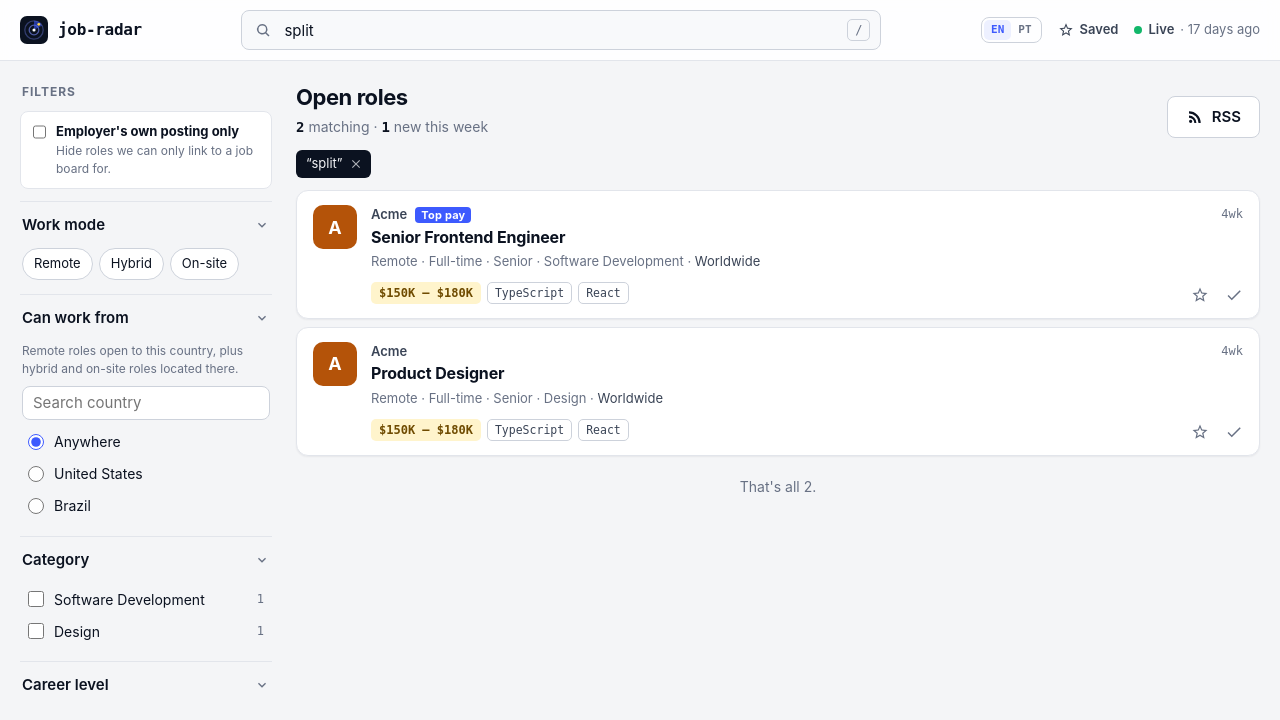
App › opens a preview beside the list on wide screens only once a role is picked
The image size is (1280, 720).
Click the link "Senior Frontend Engineer": (468, 236) [371,226,565,246]
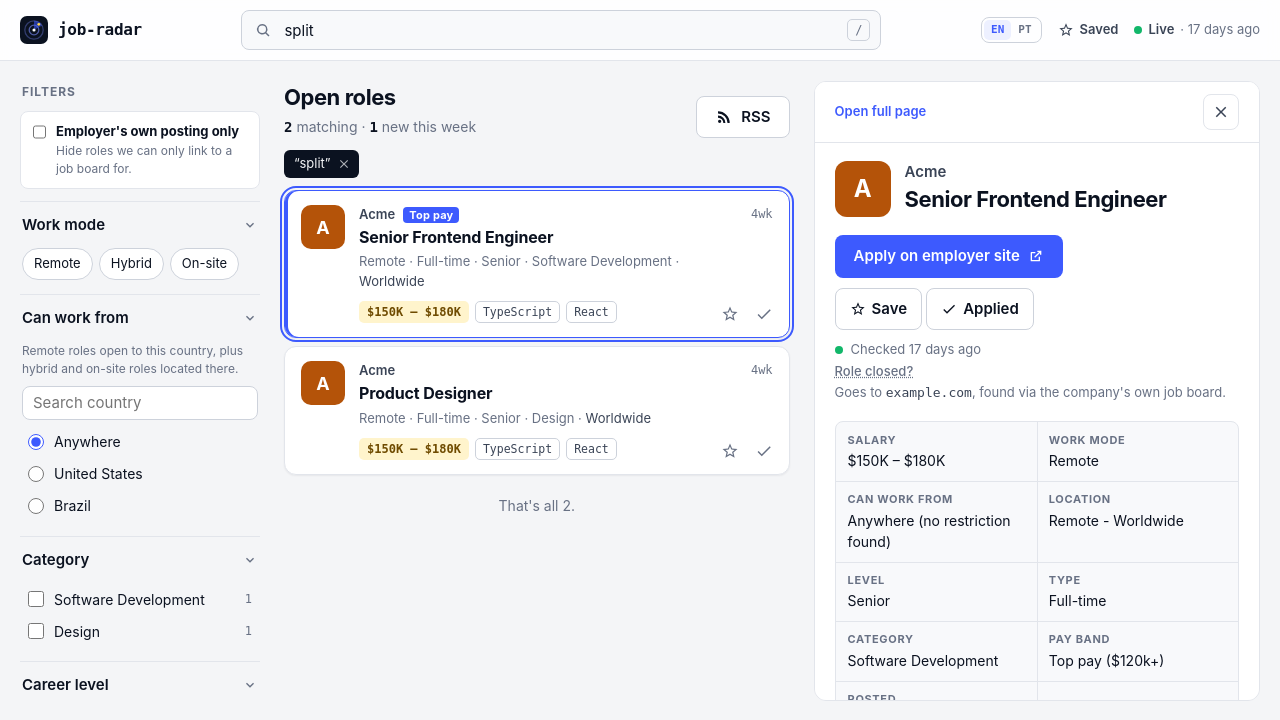
Expected: the heading "Senior Frontend Engineer" below "Open full page" is shown, [905,186,1166,213]
Click the button named "Close preview": (1221, 112) [1203,94,1239,130]
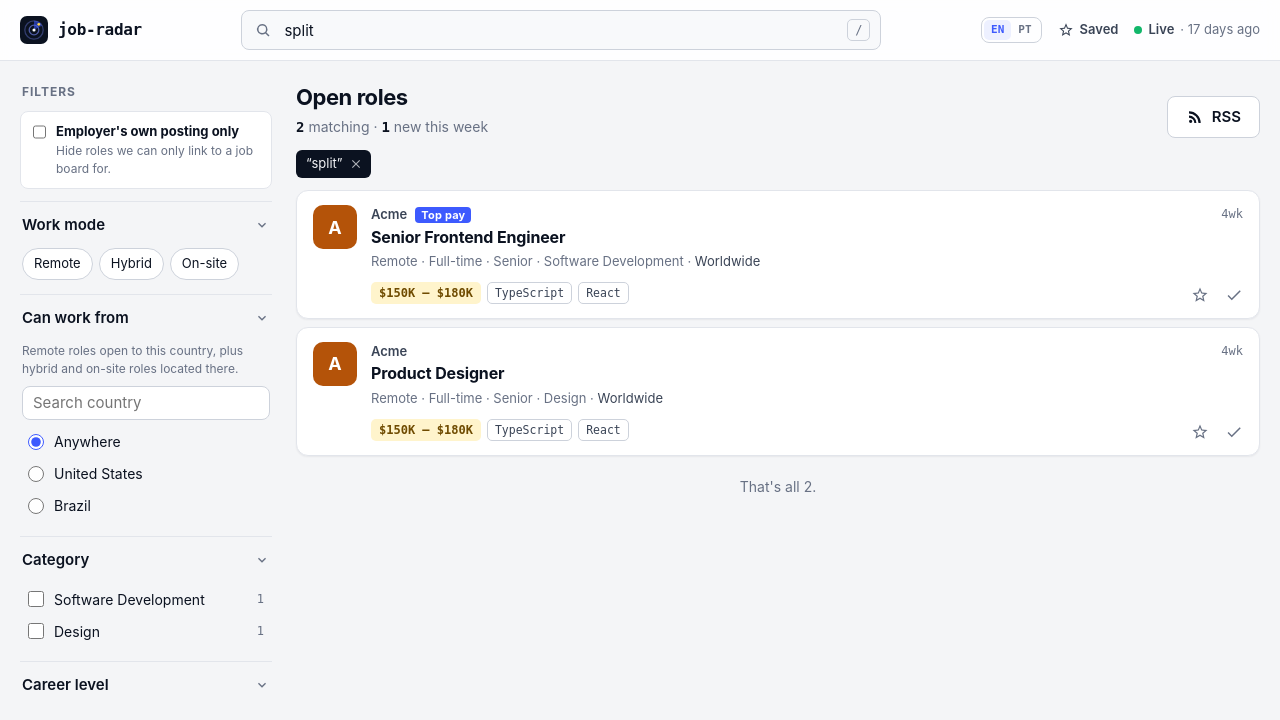
Expected: the button "Role preview" is gone
